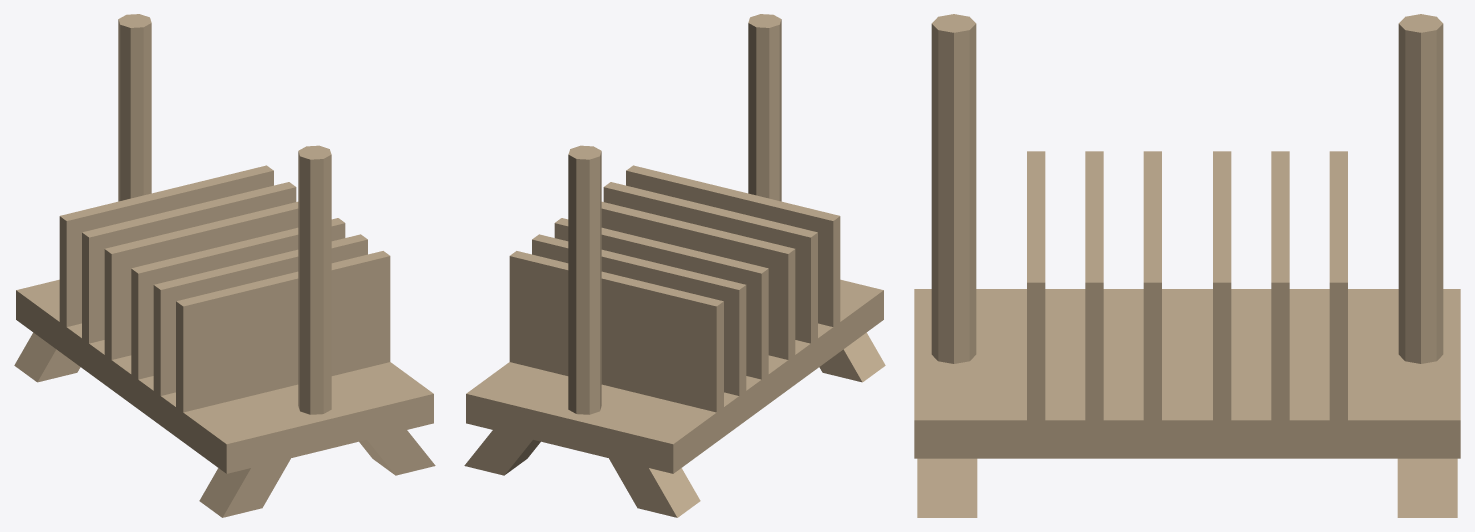
The model's file is derzhalka.fbx.
The picture shows the model from 3 angles, left to right: view 1: azimuth 30°, elevation 25°; view 2: azimuth 150°, elevation 25°; view 3: azimuth 270°, elevation 25°; orthographic projection. The views are drawn at different scales.
Visible parts, largest first — view 1: Cube.001; view 2: Cube.001; view 3: Cube.001.
Boxes of the visible parts, x1,y1,x2,y2 form: Cube.001: [14, 14, 435, 517]; Cube.001: [464, 14, 885, 517]; Cube.001: [914, 14, 1460, 517].
Bounding box in the file's own units: 0.1836 × 0.2704 × 0.3138.
